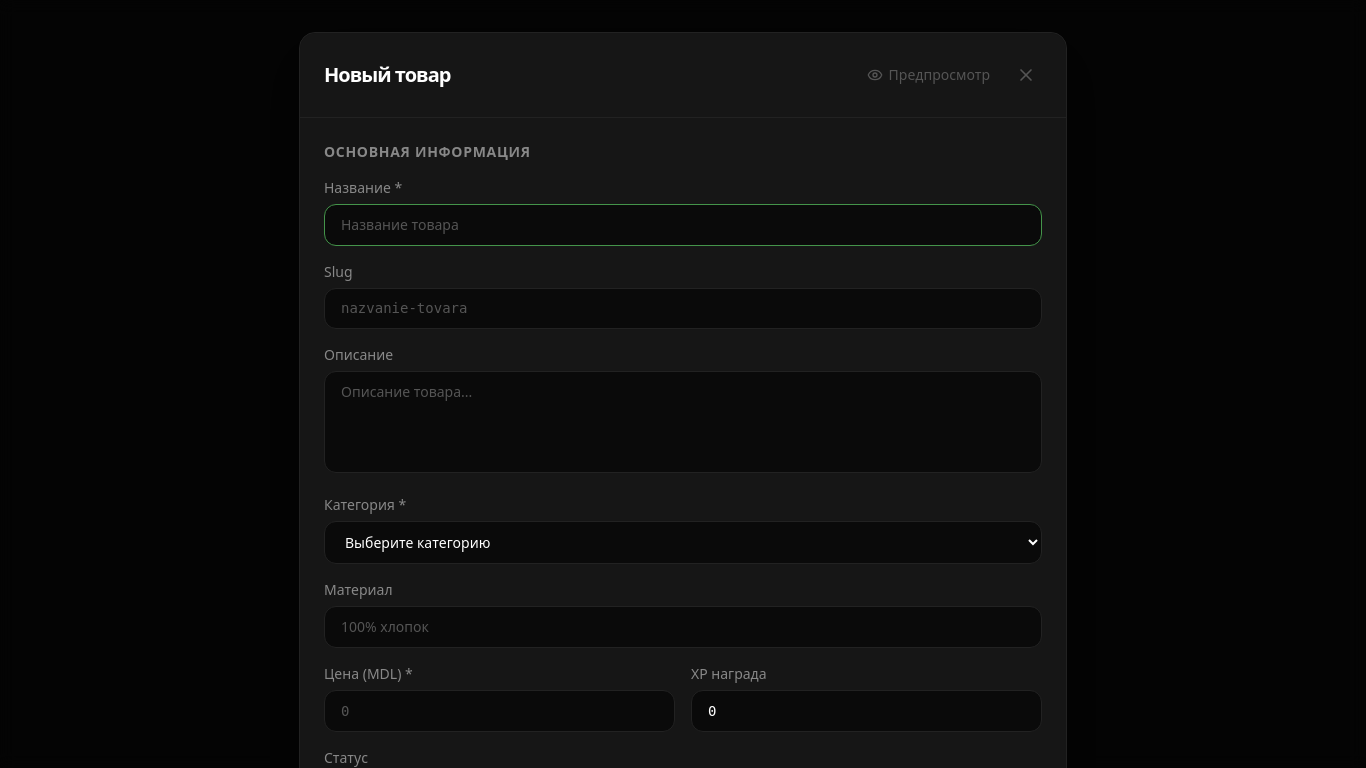
ProductForm — brand editor (KAN-14) › dedupes brands entered twice
expect the field with test id "pf-name" is shown: met, box [324,204,1042,246]
Select "Одежда" in the dropdown with test id "pf-category": x=683, y=542 [324,521,1042,564]
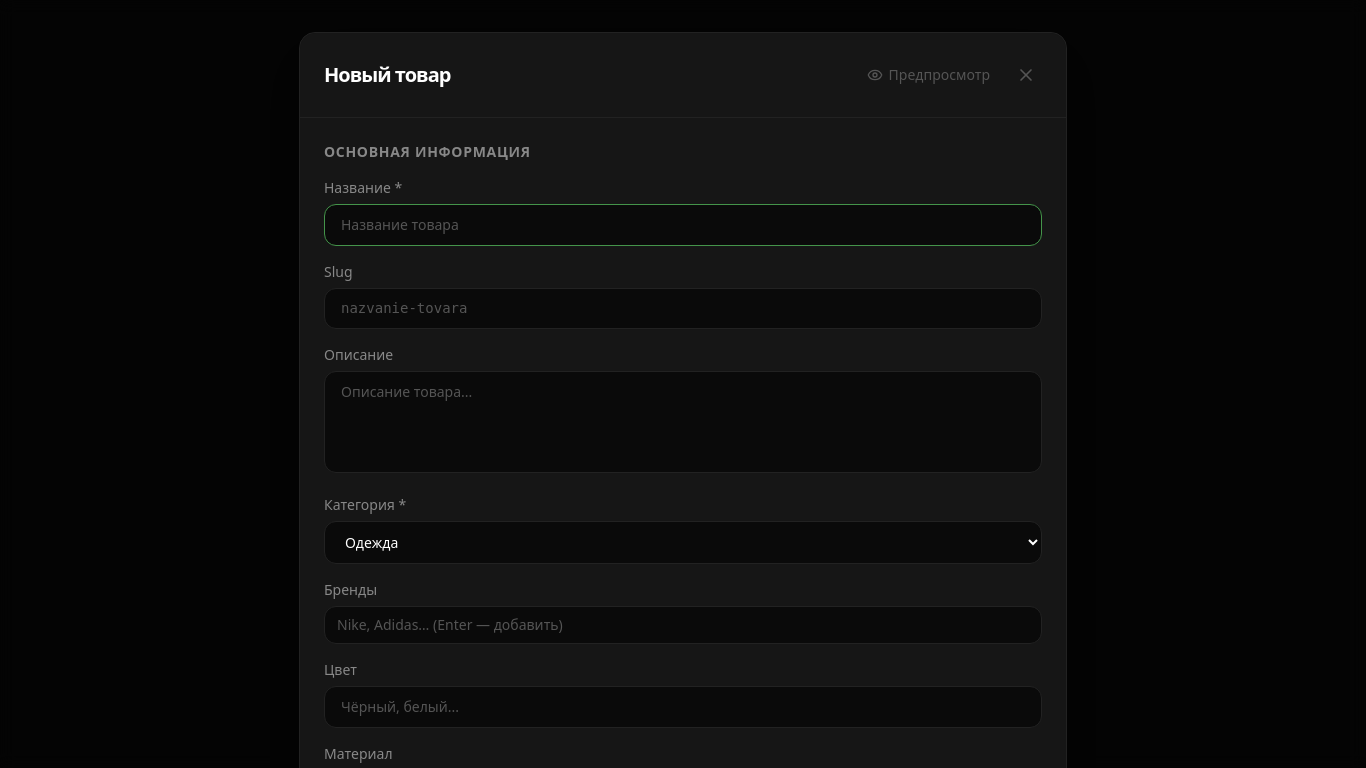
In the field with test id "brand-input": x=683, y=625 [337,615,1029,635], type "Bape"
Then press Enter
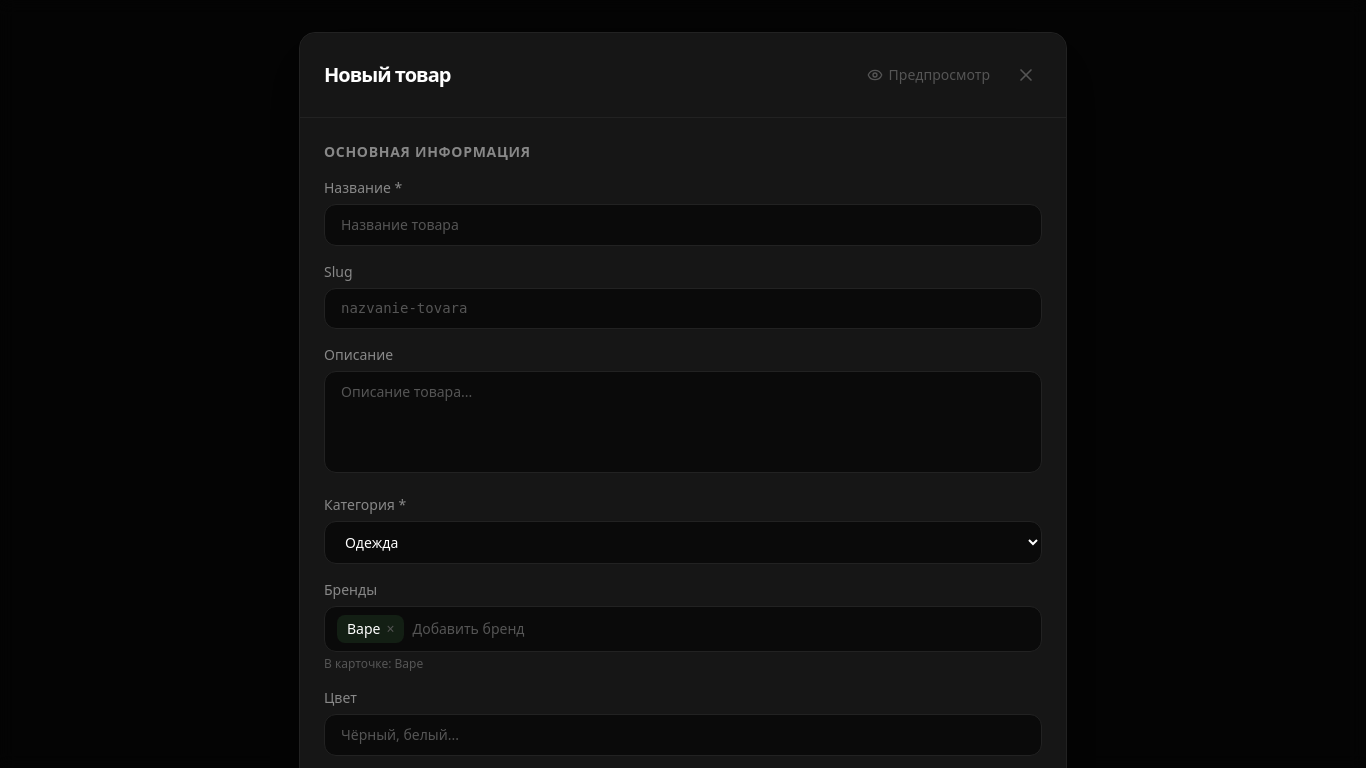
expect the number of elements with test id "brand-chip-bape" is 1: met, box [337,615,404,643]
